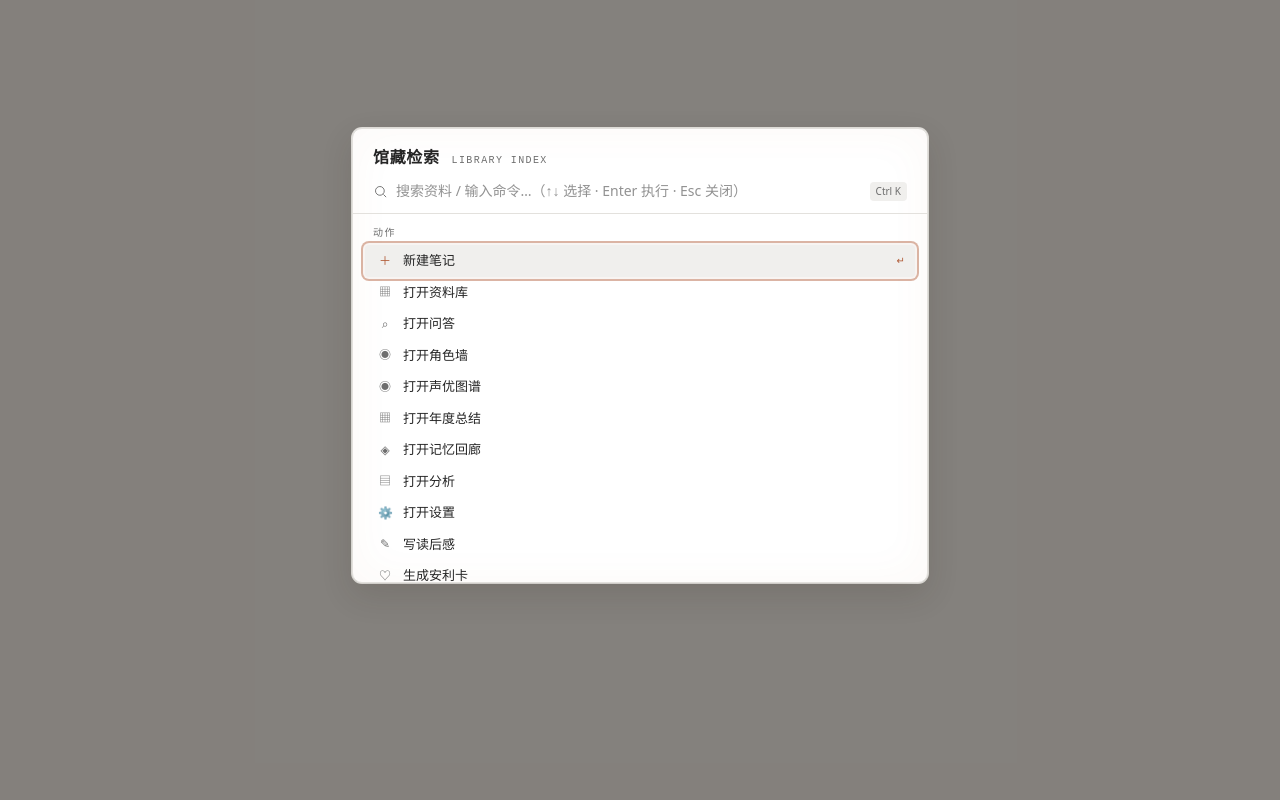
Test: CommandPalette 组件 › 无匹配 → 空状态提示
Type "zzz不存在的词" into the field with placeholder "搜索资料 / 输入命令…（↑↓ 选择 · Enter 执行 · Esc 关闭）" at (629, 191), box [396,181,862,201]
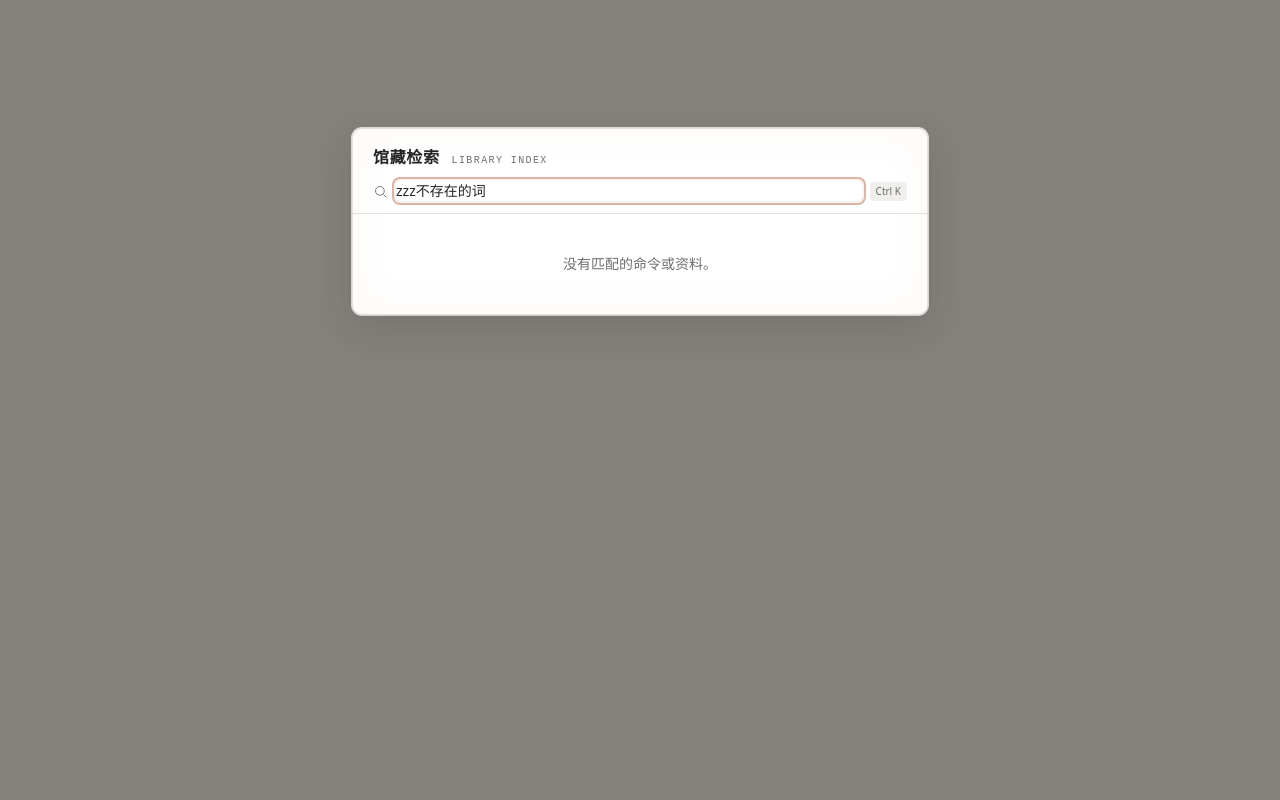
Result: the text "没有匹配的命令或资料。" is shown at [563,254,717,273]
